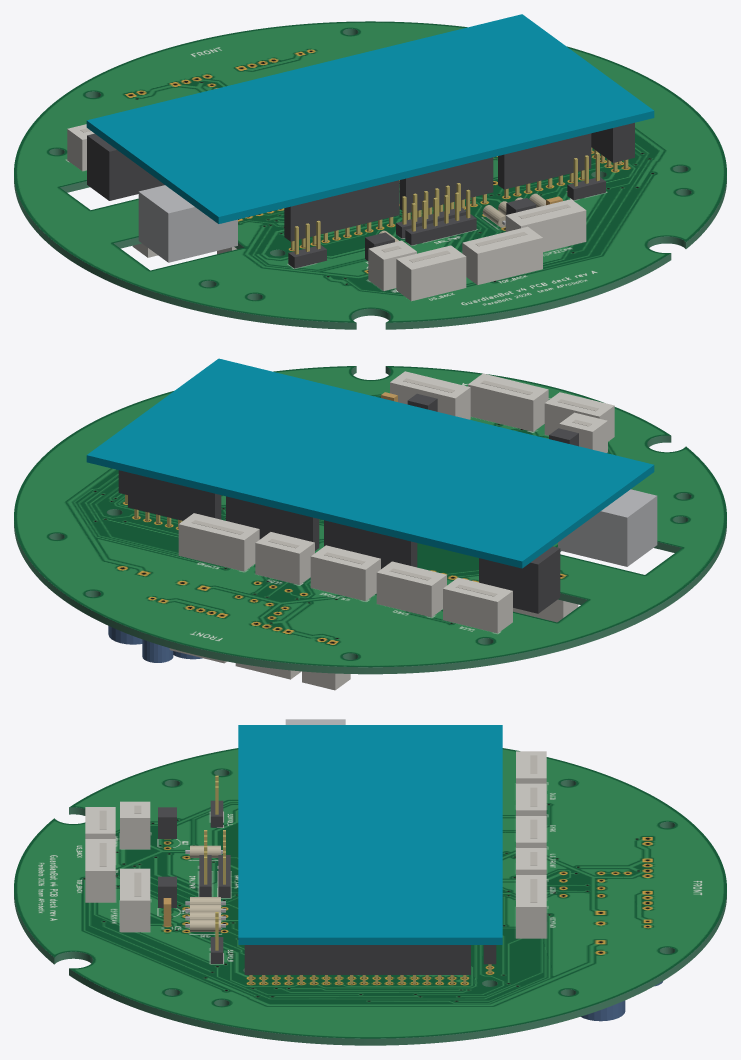
The model's file is pcb.glb.
The picture shows the model from 3 angles, top to bottom: view 1: azimuth 30°, elevation 25°; view 2: azimuth 150°, elevation 25°; view 3: azimuth 270°, elevation 25°; orthographic projection.
Visible parts, largest first — view 1: arduino_mega, board_top_0, parts, board_core_0; view 2: arduino_mega, board_top_0, parts, board_core_0; view 3: board_top_0, arduino_mega, parts, board_core_0.
Boxes of the visible parts, left/top/right/bottom form: arduino_mega: left=86, top=14, right=654, bottom=262; board_top_0: left=14, top=21, right=726, bottom=322; parts: left=67, top=124, right=605, bottom=301; board_core_0: left=14, top=28, right=726, bottom=329; arduino_mega: left=86, top=358, right=657, bottom=613; board_top_0: left=14, top=366, right=726, bottom=667; parts: left=108, top=371, right=614, bottom=690; board_core_0: left=14, top=366, right=726, bottom=674; board_top_0: left=14, top=748, right=726, bottom=1038; arduino_mega: left=238, top=719, right=502, bottom=984; parts: left=85, top=751, right=662, bottom=1021; board_core_0: left=14, top=769, right=726, bottom=1045.
Size of the model in its own units: 144 by 26.75 by 144.
Materials: 2 (2 with a texture image).
